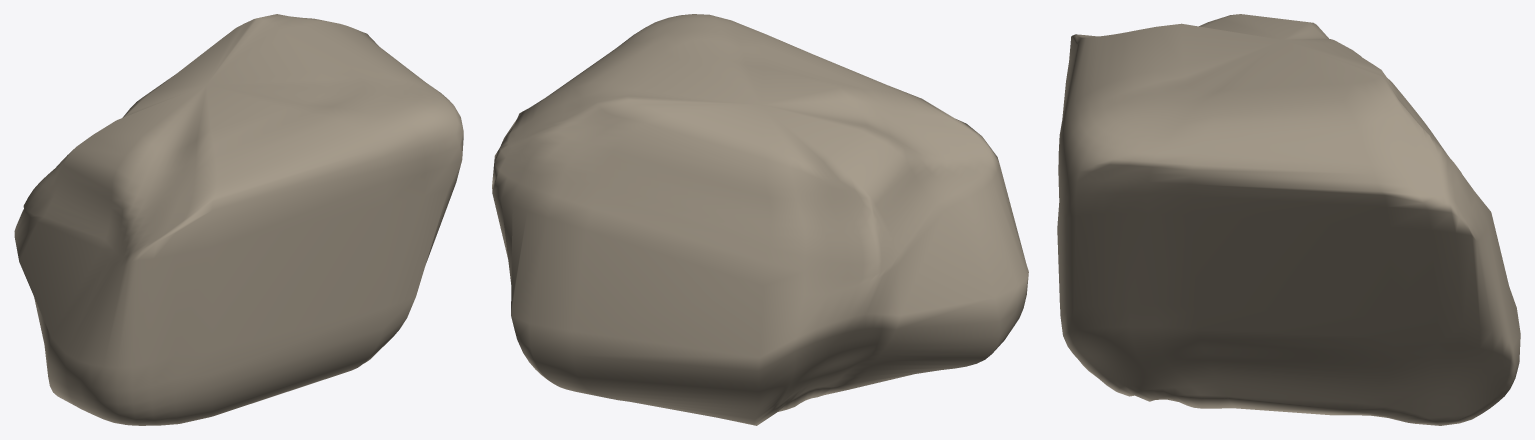
File: landscape.rock.gritstone_05.glb
3 views of the same model, side by side, from view 1: azimuth 30°, elevation 25°; view 2: azimuth 150°, elevation 25°; view 3: azimuth 270°, elevation 25° (orthographic). The views are drawn at different scales.
Visible parts, largest first — view 1: main__stone_a98; view 2: main__stone_a98; view 3: main__stone_a98.
Boxes of the visible parts, x1=… form: main__stone_a98: x1=14, y1=14, x2=463, y2=425; main__stone_a98: x1=492, y1=14, x2=1028, y2=425; main__stone_a98: x1=1057, y1=14, x2=1520, y2=425.
Size of the model in its own units: 1.09 by 0.7364 by 0.9038.
